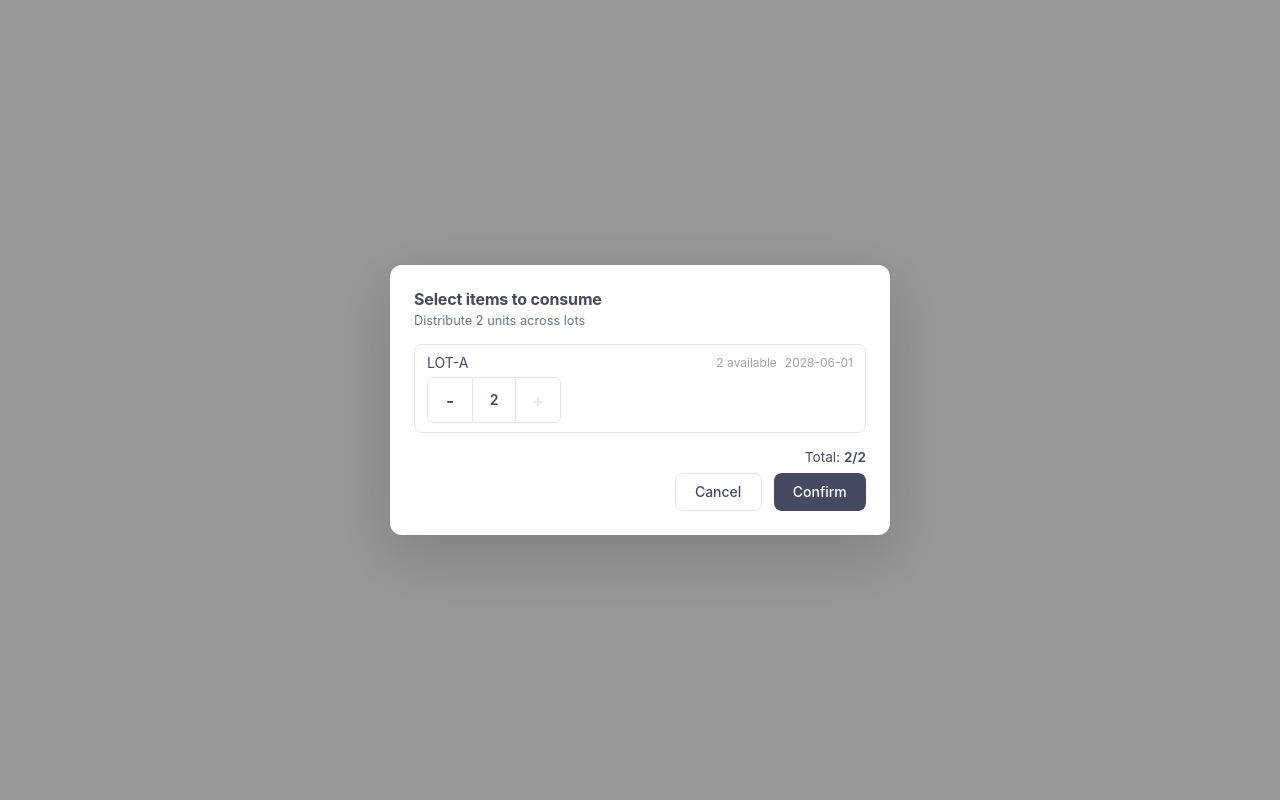
Scenario: LotConsumeModal — pack step › refuses to continue when fewer packs are named than units consumed
This screenshot has width=1280, height=800.
Click the button "Confirm": {"x": 820, "y": 492} top-left (774, 473), bottom-right (866, 511)
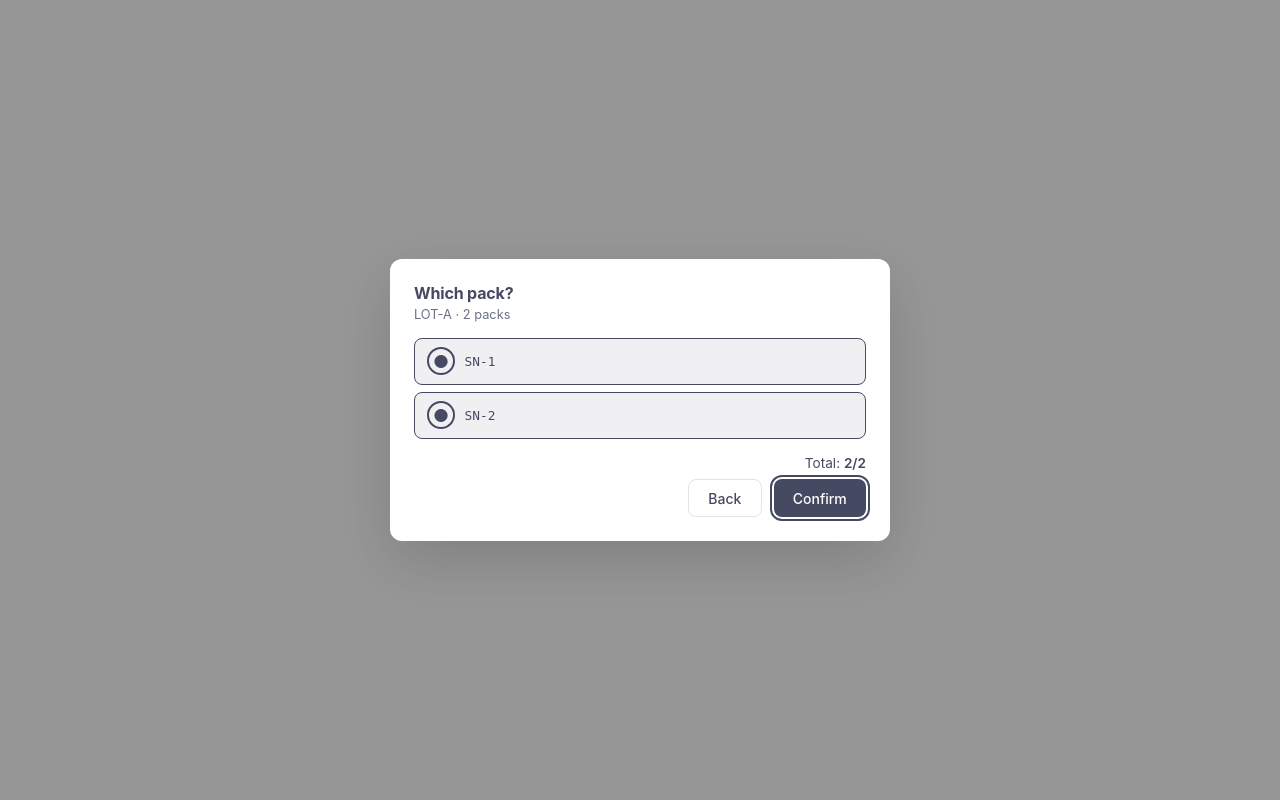
Click the text "SN-2": {"x": 480, "y": 415} top-left (465, 408), bottom-right (495, 423)
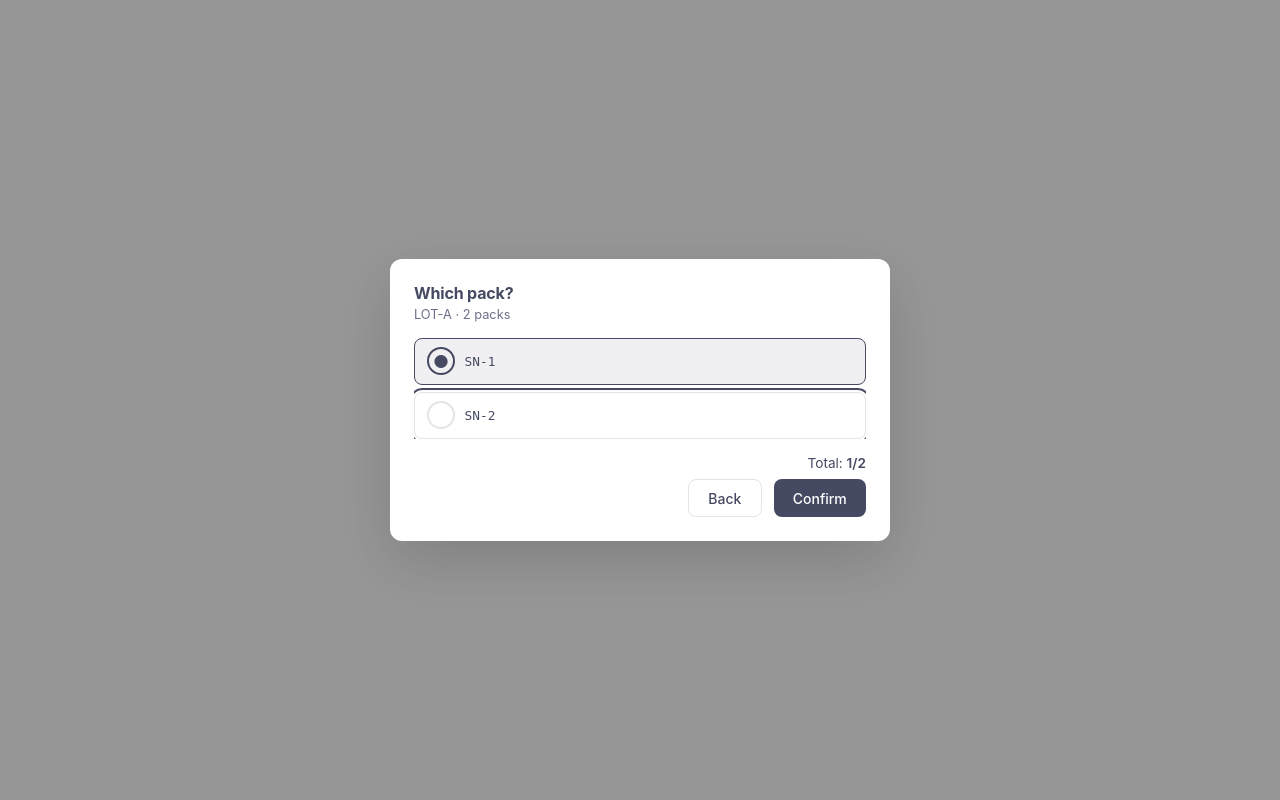
Click the button with test id "pack-confirm": {"x": 820, "y": 498} top-left (774, 479), bottom-right (866, 517)
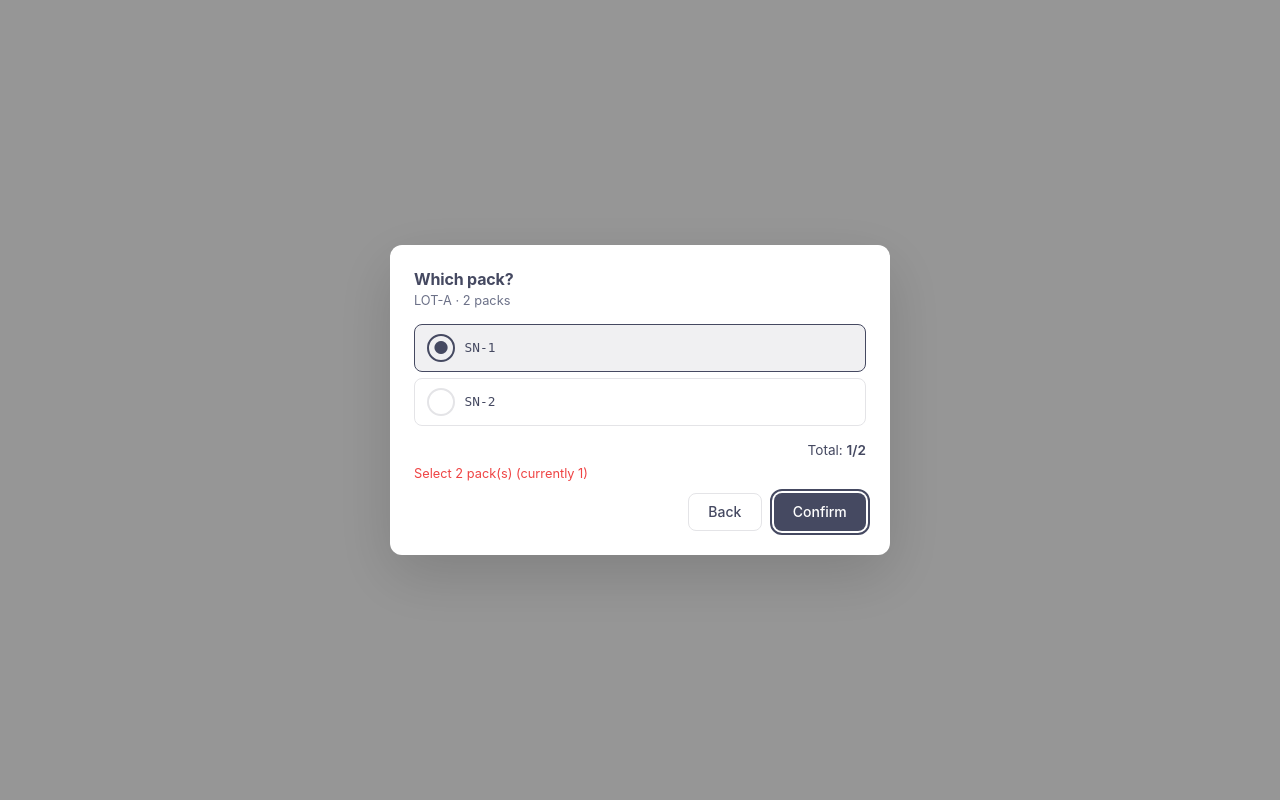
Check: the text "Select 2 pack(s) (currently 1)" is shown, box top-left (414, 466), bottom-right (588, 481)
